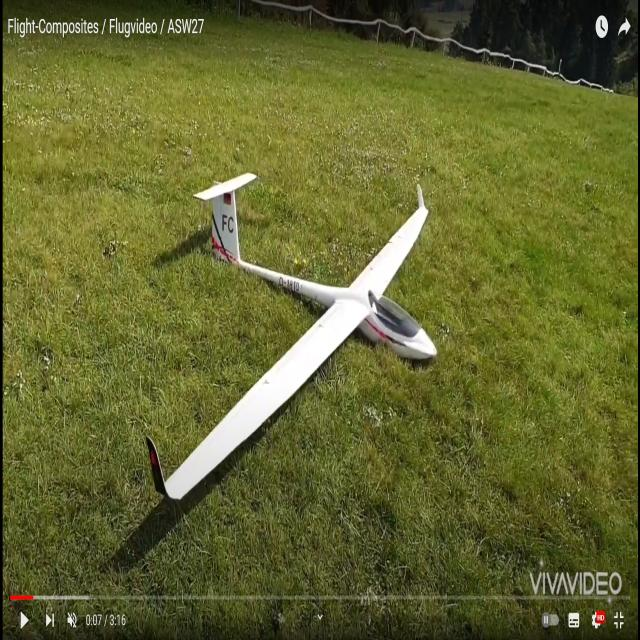iha: (147, 170, 433, 514)
